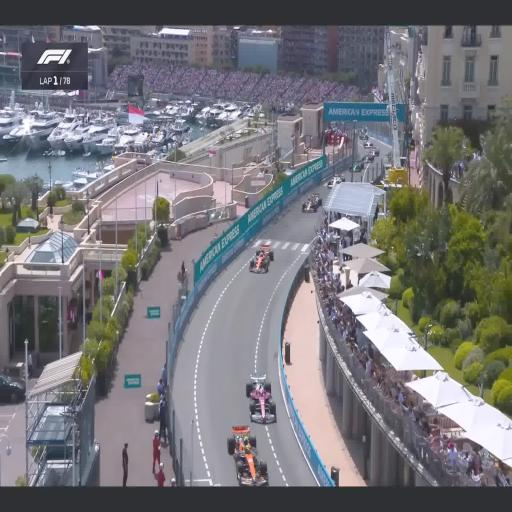f1_car: (227, 425, 269, 486), (246, 374, 276, 422), (249, 244, 274, 273), (302, 194, 322, 212), (327, 175, 345, 188)
